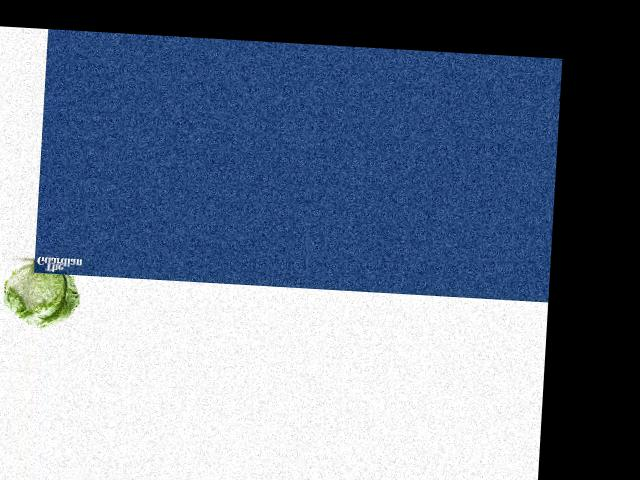lettuce: (2, 262, 79, 333)
